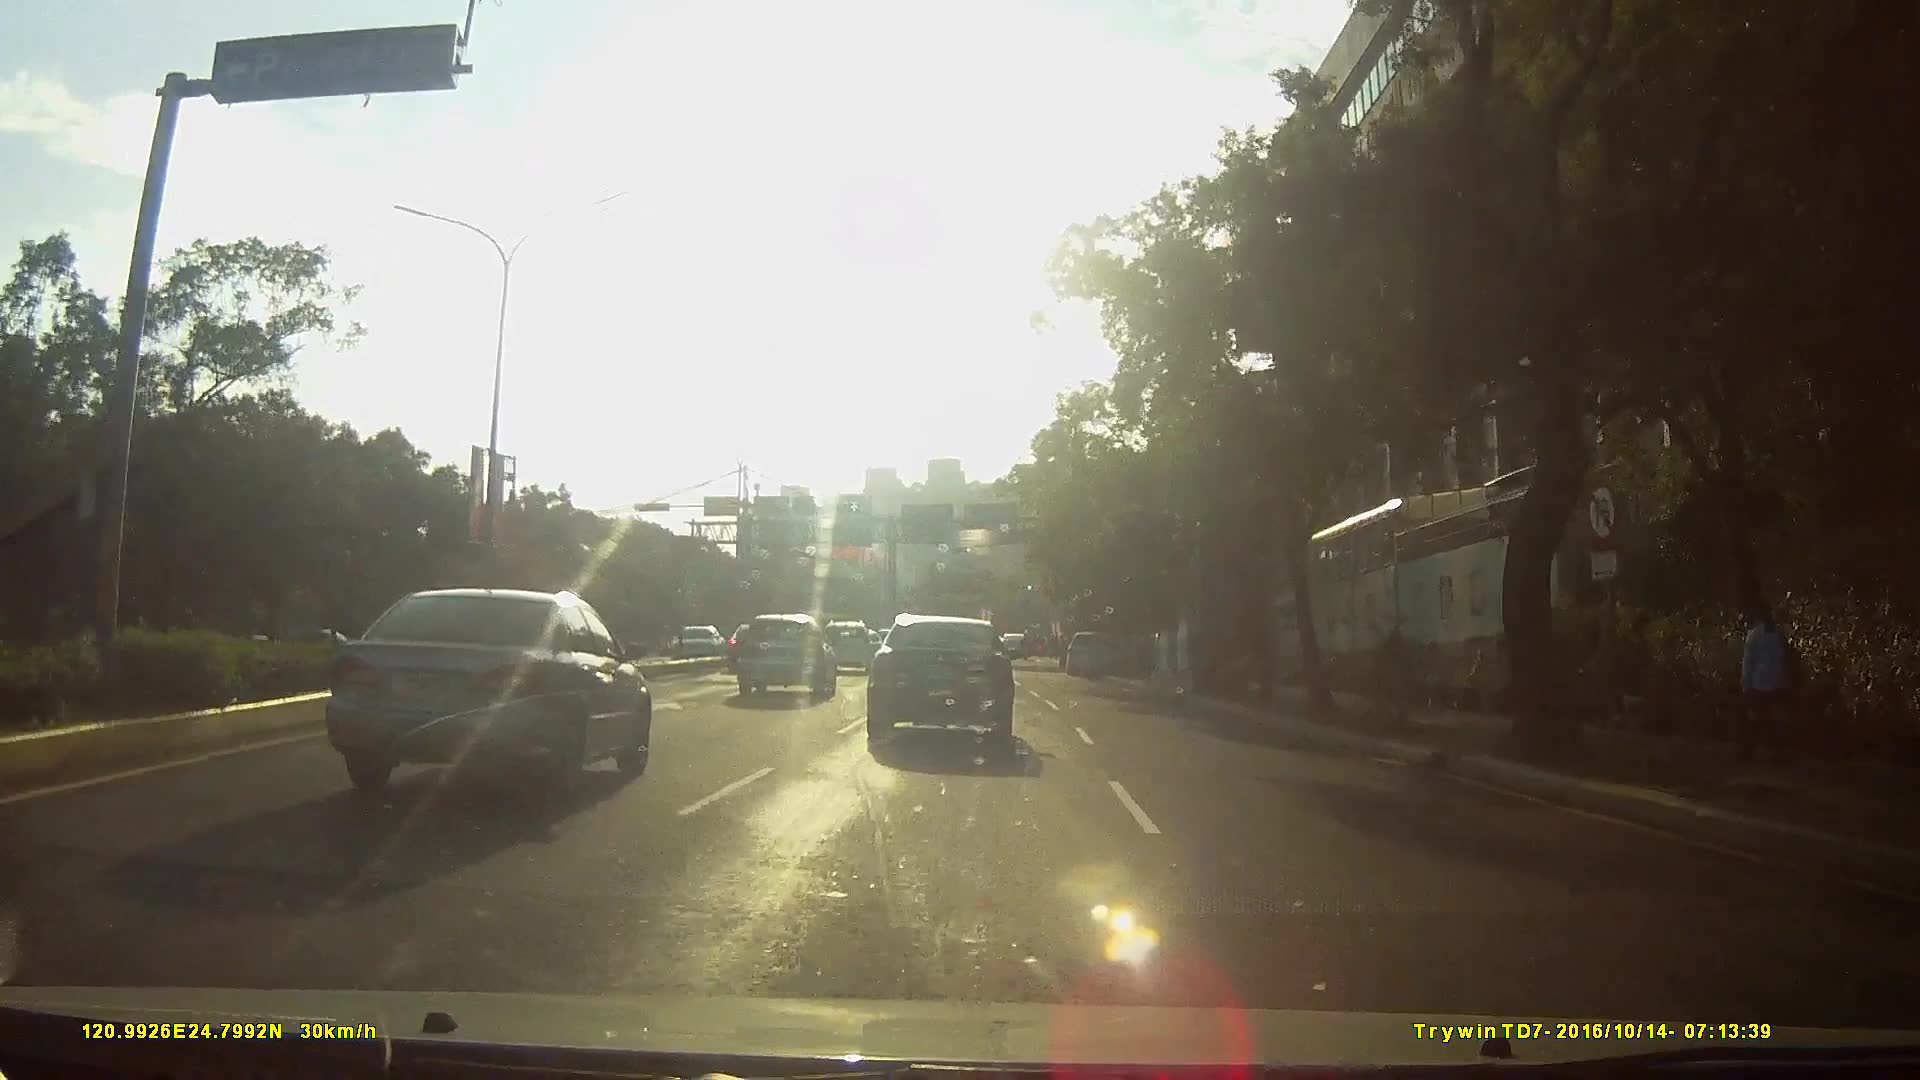pedestrian: (1742, 590, 1809, 772)
vehicle: (299, 582, 663, 809), (865, 611, 1036, 758), (729, 610, 833, 702), (812, 617, 872, 675), (664, 618, 733, 665), (1063, 627, 1116, 676)
